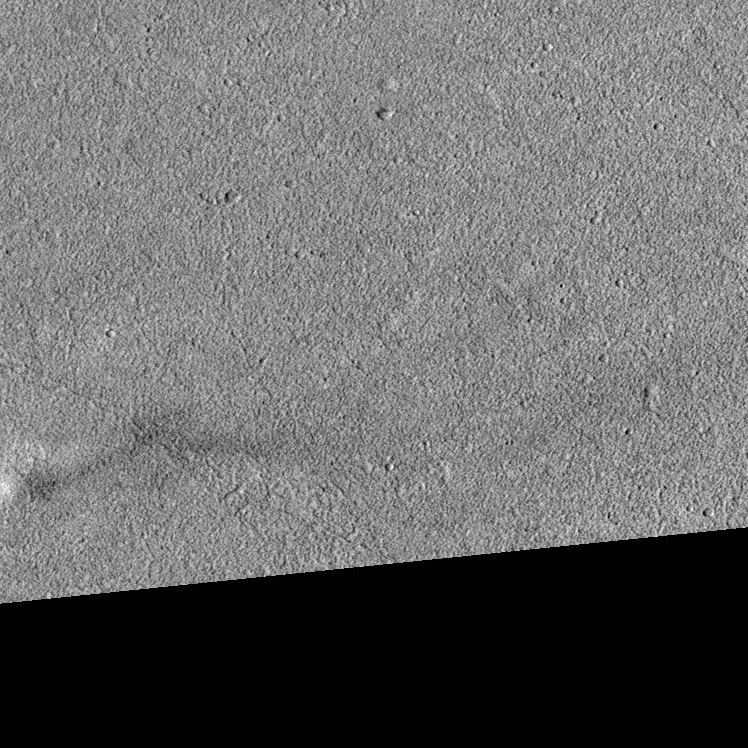dust_devil: (1, 405, 193, 506)
